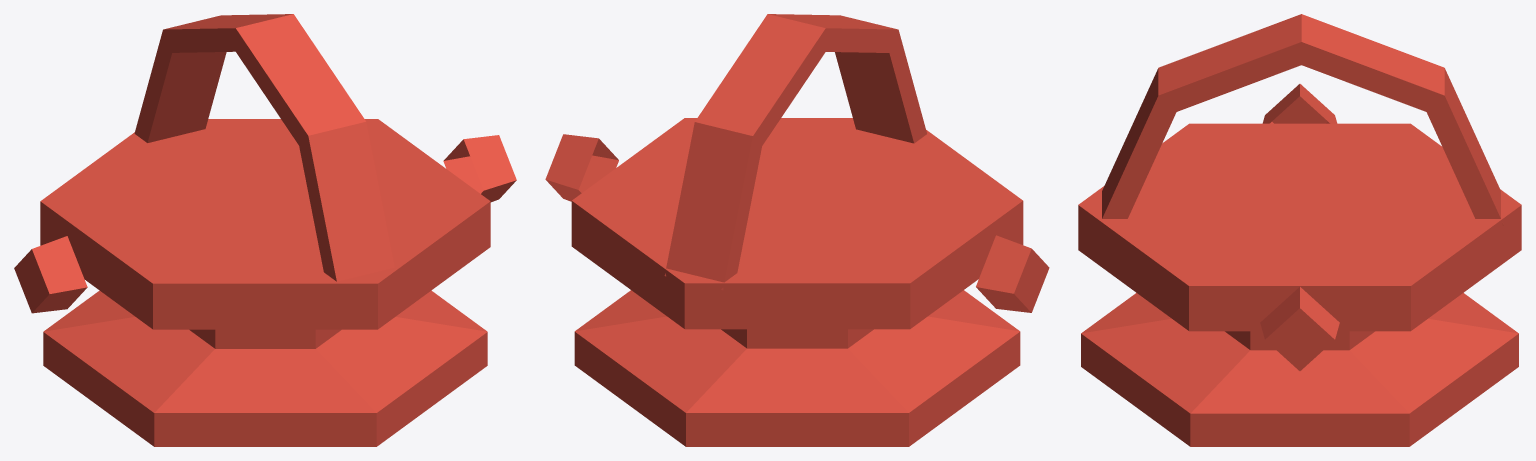
File: SM_Camera_Crane_Joint.fbx
3 views of the same model, side by side, from view 1: azimuth 30°, elevation 25°; view 2: azimuth 150°, elevation 25°; view 3: azimuth 270°, elevation 25° (orthographic).
Parts seen in each view (by area): view 1: SM_Camera_Crane_Joint; view 2: SM_Camera_Crane_Joint; view 3: SM_Camera_Crane_Joint.
Part boxes in pixels (left/top/right/bottom): SM_Camera_Crane_Joint: left=14, top=14, right=516, bottom=446; SM_Camera_Crane_Joint: left=545, top=14, right=1049, bottom=446; SM_Camera_Crane_Joint: left=1078, top=14, right=1521, bottom=446.
Bounding box in the file's own units: 27.23 × 32.63 × 25.91.
